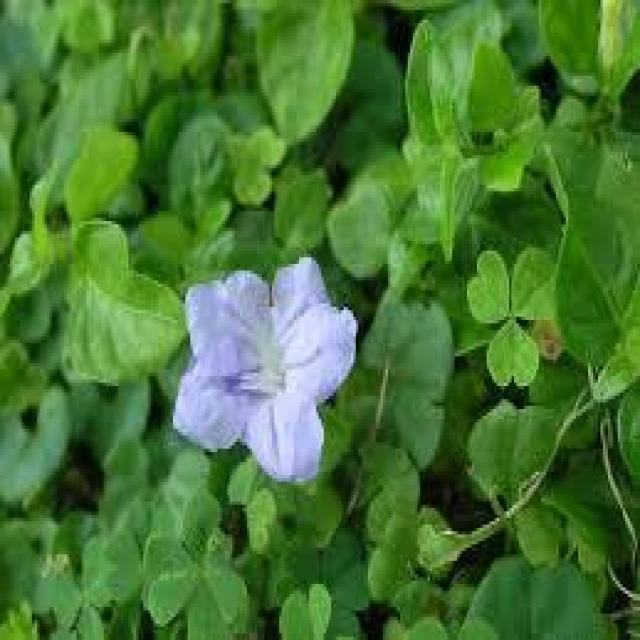organic waste: (169, 254, 350, 478)
